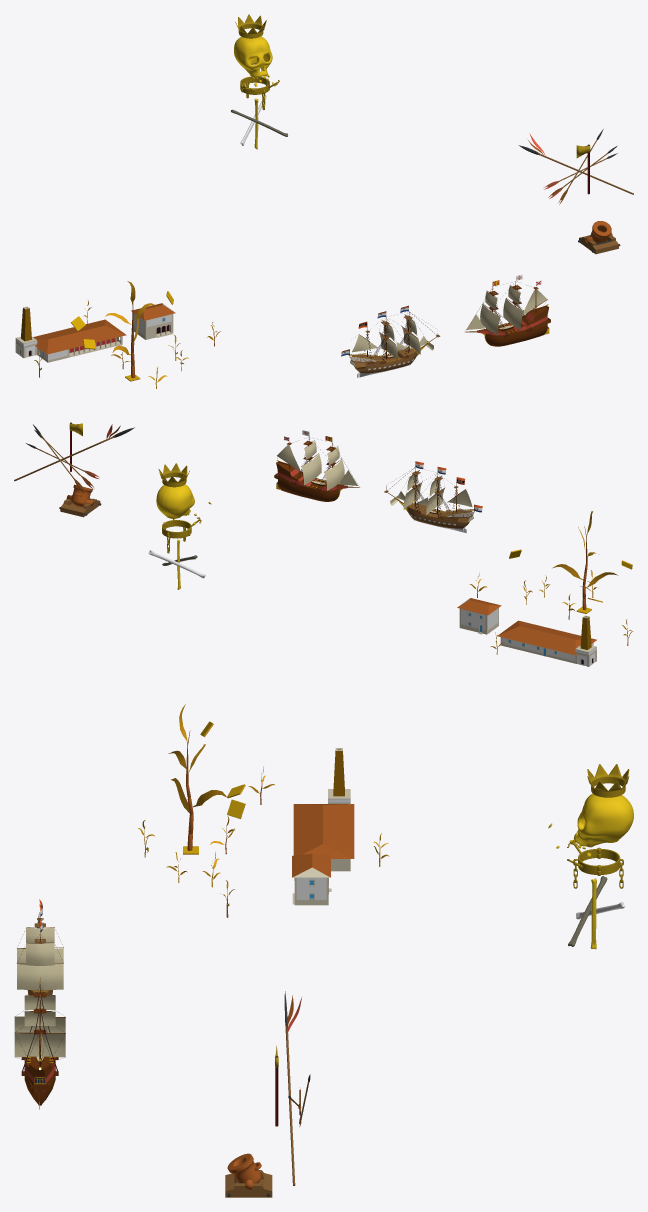
3 views of the same model, one above another, from view 1: azimuth 30°, elevation 25°; view 2: azimuth 150°, elevation 25°; view 3: azimuth 270°, elevation 25° (orthographic). The views are drawn at different scales.
Visible parts, largest first — view 1: Cube.022, sce-nau-pt, Cube.228, Cube.024, sce-ship-wic, Cube.023; view 2: Cube.022, sce-nau-pt, Cube.024, Cube.228, sce-ship-wic, Cube.023, Cube.048, Cube, Plane.004, Cube.028, Plane.001; view 3: Cube.022, Cube.228, Cube.024, Plane.004, Plane.115, sce-nau-pt, Cube.048, Cube, Cube.023, Cube.028, Cube.012.
Part boxes in pixels (x1,y1,x2,y2): Cube.022: [33, 319, 126, 362]; sce-nau-pt: [477, 305, 548, 346]; Cube.228: [234, 36, 272, 77]; Cube.024: [131, 303, 175, 339]; sce-ship-wic: [349, 348, 417, 373]; Cube.023: [15, 306, 37, 358]; Cube.022: [497, 620, 596, 663]; sce-nau-pt: [276, 461, 347, 501]; Cube.024: [457, 598, 501, 634]; Cube.228: [156, 481, 194, 518]; sce-ship-wic: [406, 503, 474, 528]; Cube.023: [575, 615, 596, 666]; Cube.048: [158, 463, 189, 487]; Cube: [60, 495, 100, 517]; Plane.004: [301, 454, 321, 485]; Cube.028: [162, 520, 191, 538]; Plane.001: [324, 459, 344, 490]; Cube.022: [293, 804, 354, 871]; Cube.228: [574, 793, 633, 847]; Cube.024: [292, 853, 331, 905]; Plane.004: [14, 1033, 65, 1057]; Plane.115: [17, 964, 63, 990]; sce-nau-pt: [24, 1056, 55, 1105]; Cube.048: [587, 764, 629, 797]; Cube: [225, 1170, 272, 1197]; Cube.023: [328, 748, 350, 804]; Cube.028: [578, 848, 620, 874]; Cube.012: [227, 1153, 261, 1183].
Size of the model in its own units: 14.67 by 4.35 by 9.08.
48 materials, 5 textured.
